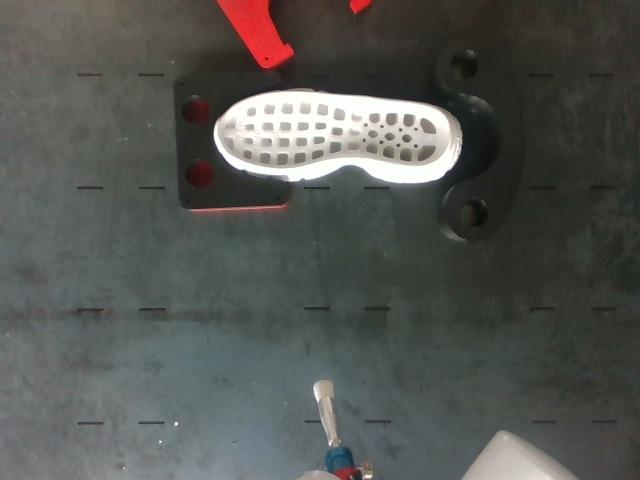shoes: (218, 93, 450, 168)
